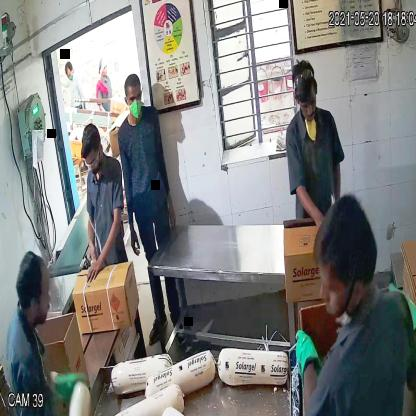goggles: (79, 153, 103, 170)
no_goggles: (294, 92, 323, 111), (123, 91, 145, 108)
